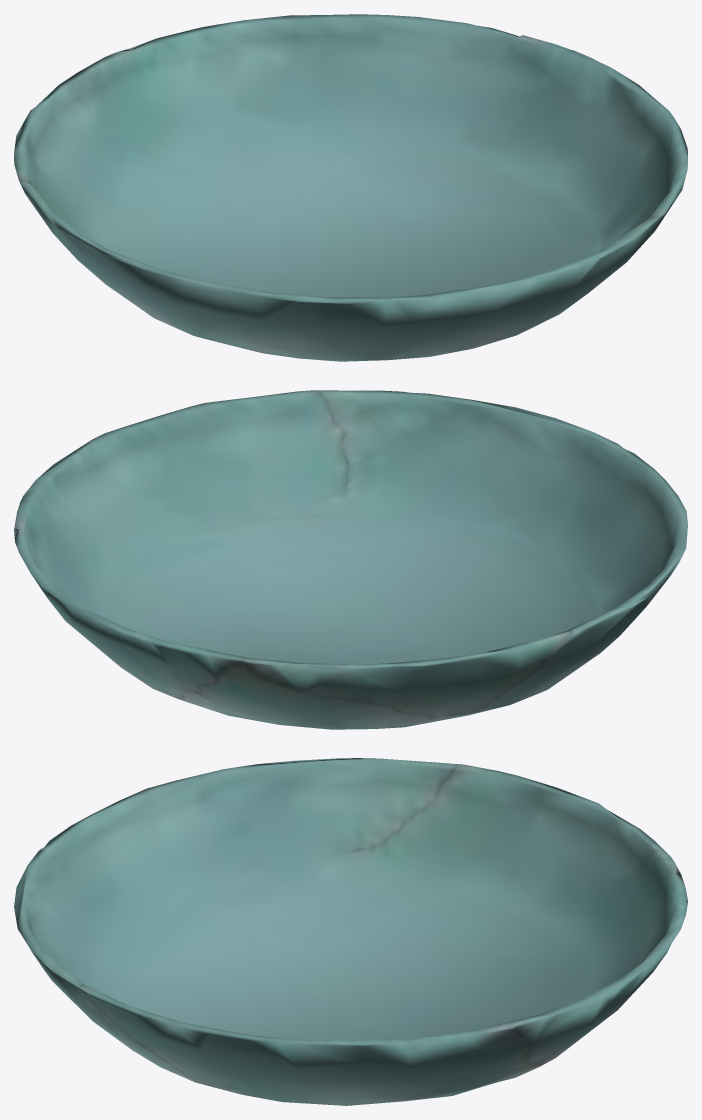
File: Ecoforms_Plant_Container_S14Turquoise-medium.glb
3 views of the same model, one above another, from view 1: azimuth 30°, elevation 25°; view 2: azimuth 150°, elevation 25°; view 3: azimuth 270°, elevation 25° (orthographic).
Visible parts, largest first — view 1: Ecoforms_Plant_Container_S14Turquoise; view 2: Ecoforms_Plant_Container_S14Turquoise; view 3: Ecoforms_Plant_Container_S14Turquoise.
Boxes of the visible parts, box(x1,y1,x2,y2) form: Ecoforms_Plant_Container_S14Turquoise: box(14, 14, 687, 361); Ecoforms_Plant_Container_S14Turquoise: box(14, 390, 687, 729); Ecoforms_Plant_Container_S14Turquoise: box(14, 758, 687, 1105).
Size of the model in its own units: 0.1474 by 0.0264 by 0.1474.
1 material, 1 textured.
